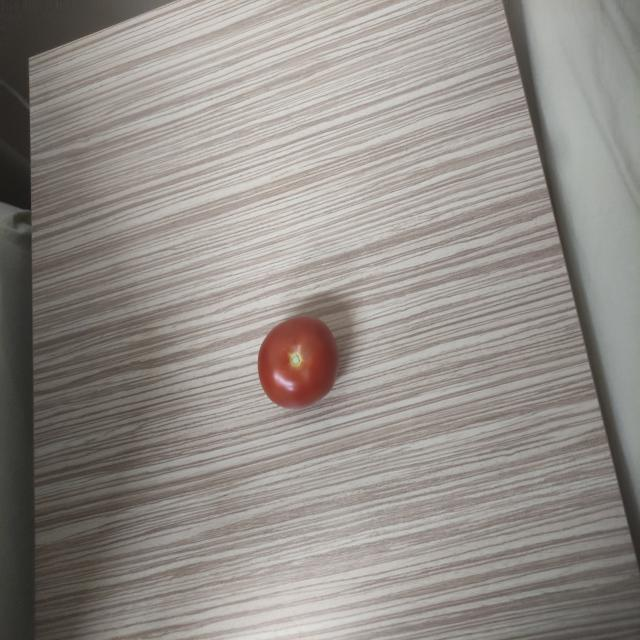kirmizi: (245, 310, 350, 428)
